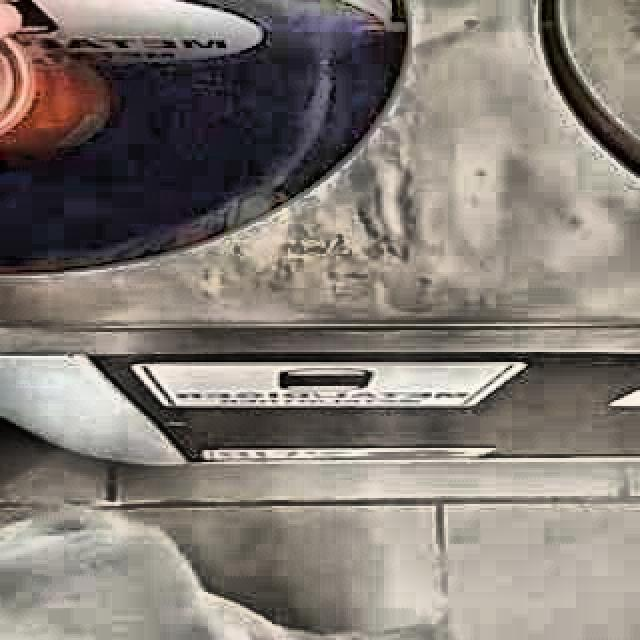metal: (0, 36, 107, 152)
